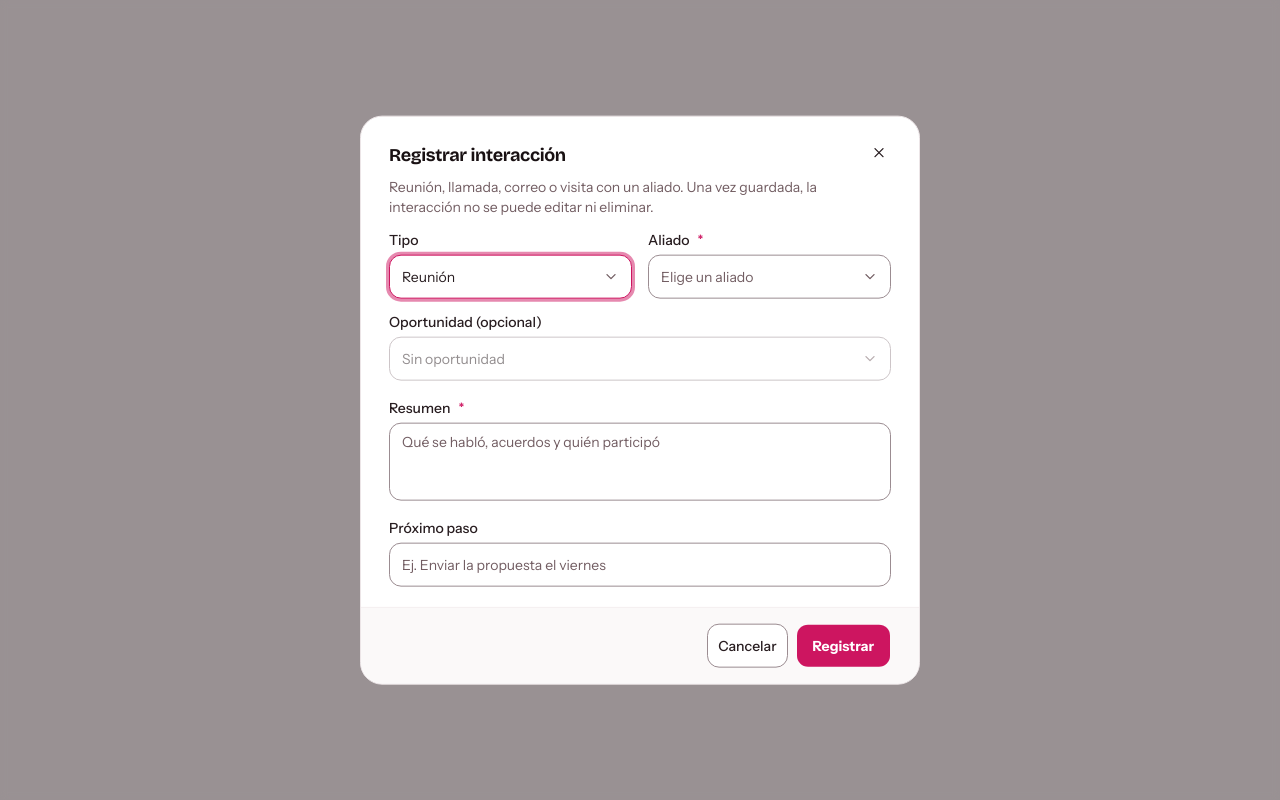
InteraccionFormDialog › blocks the submit when the resumen is empty
Click the dropdown labelled "Elige un aliado ▼".
click(770, 276)  # box [648, 254, 891, 298]
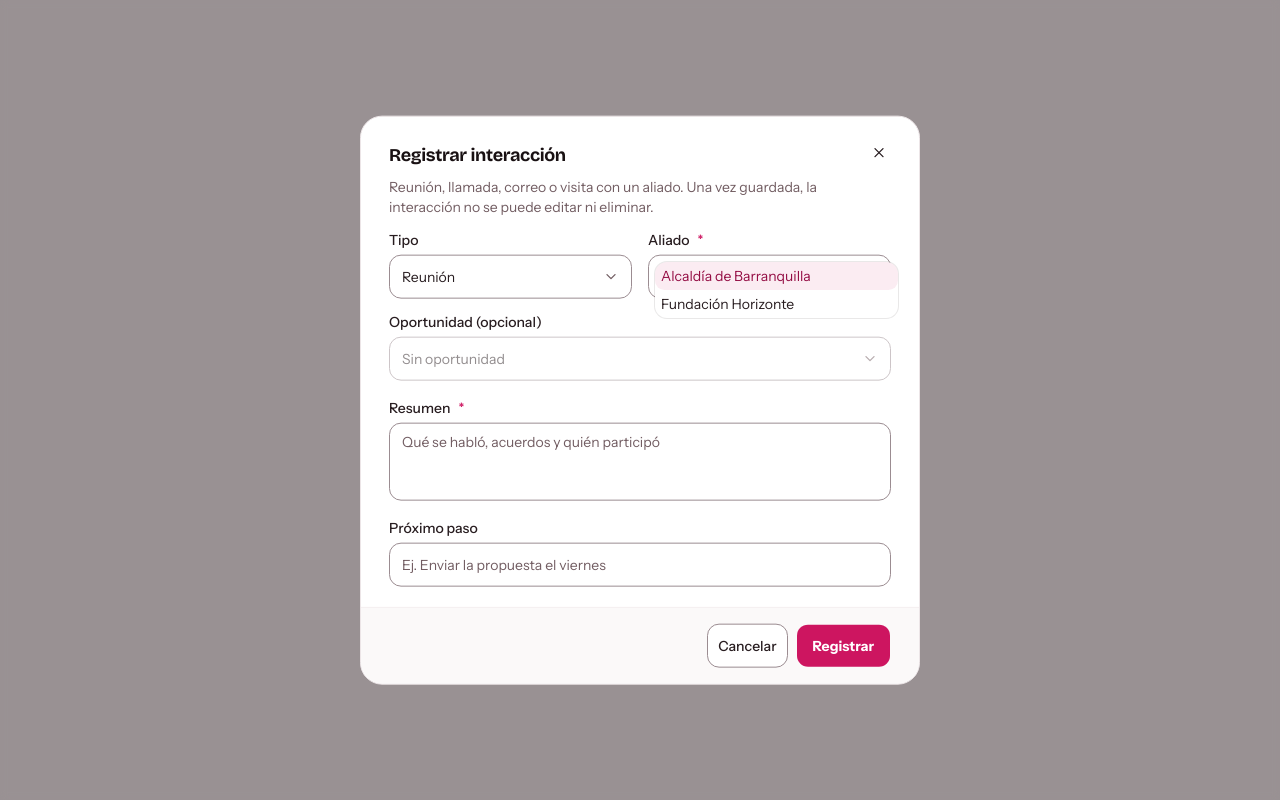
Click the option "Alcaldía de Barranquilla".
click(776, 276)  # box [655, 262, 898, 290]
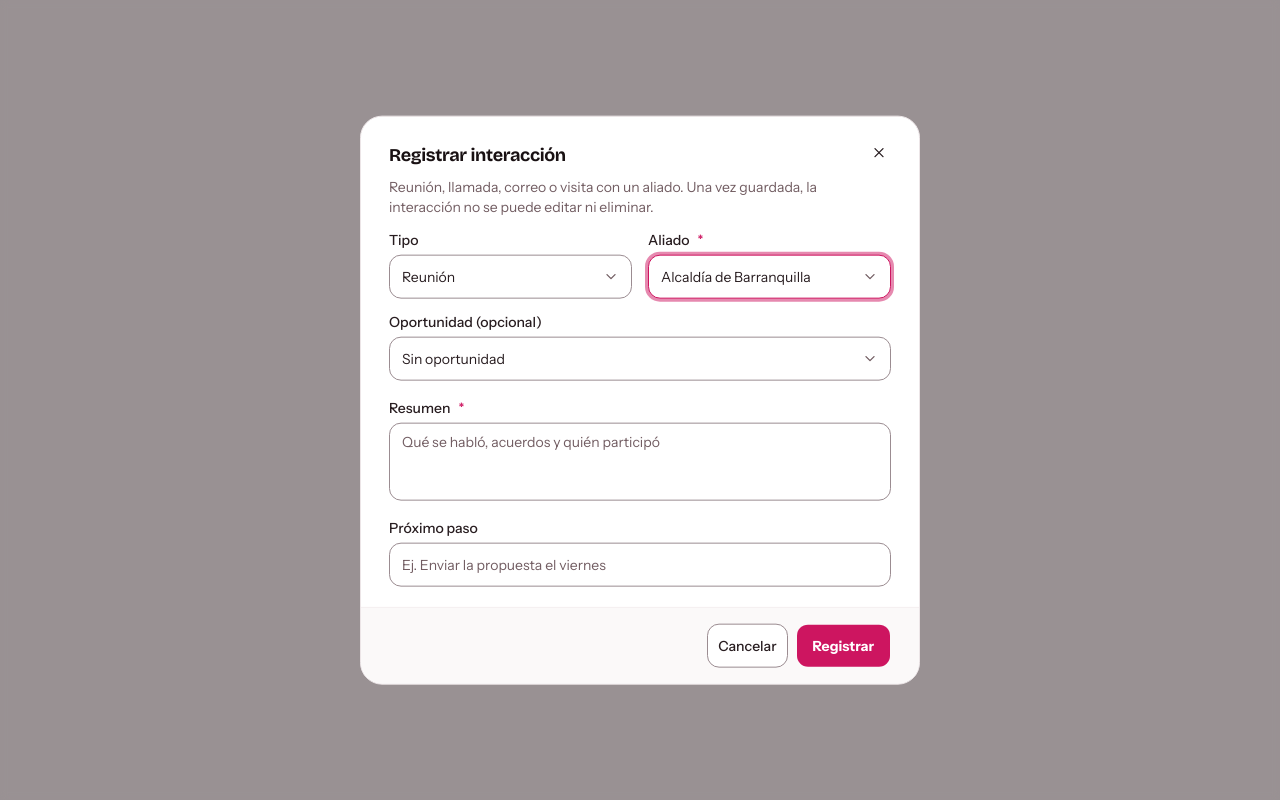
Click the button "Registrar".
click(843, 645)  # box [796, 623, 891, 667]
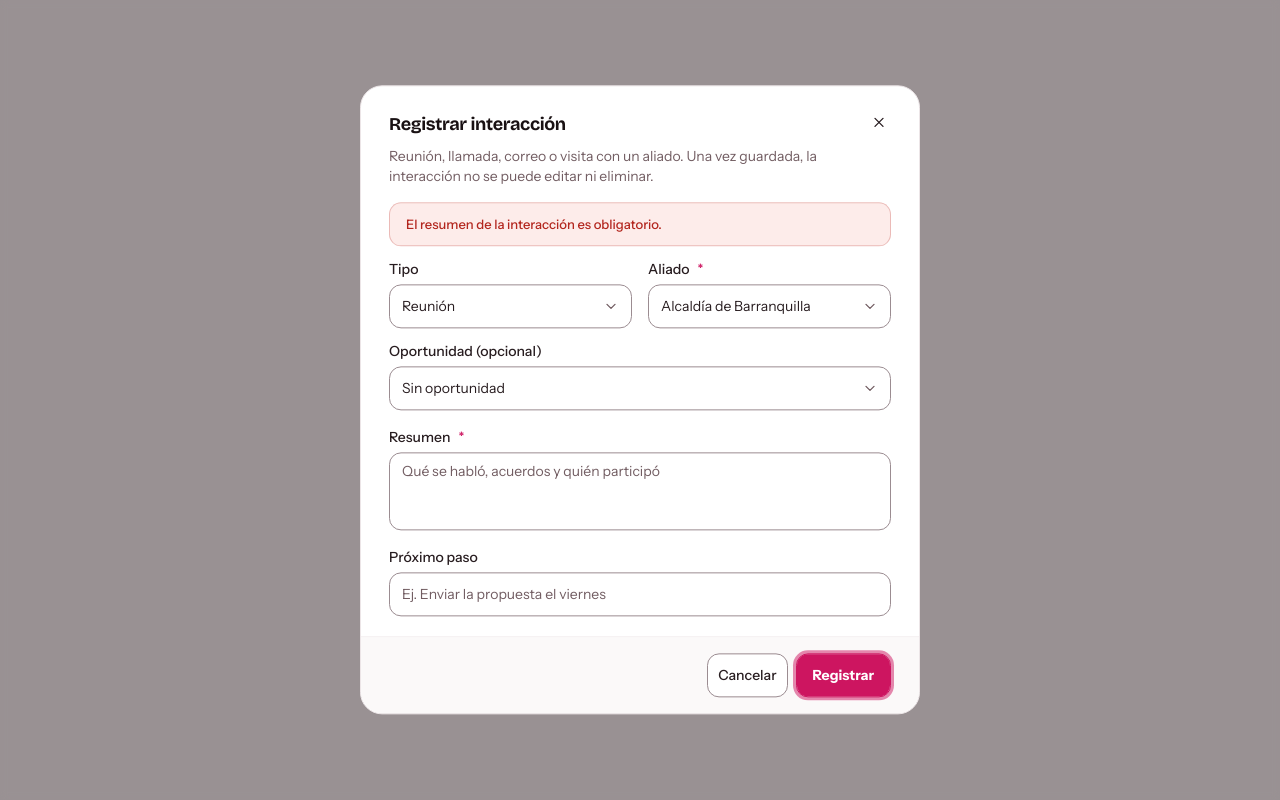
expect the message shows "resumen": met, box [406, 216, 662, 232]
